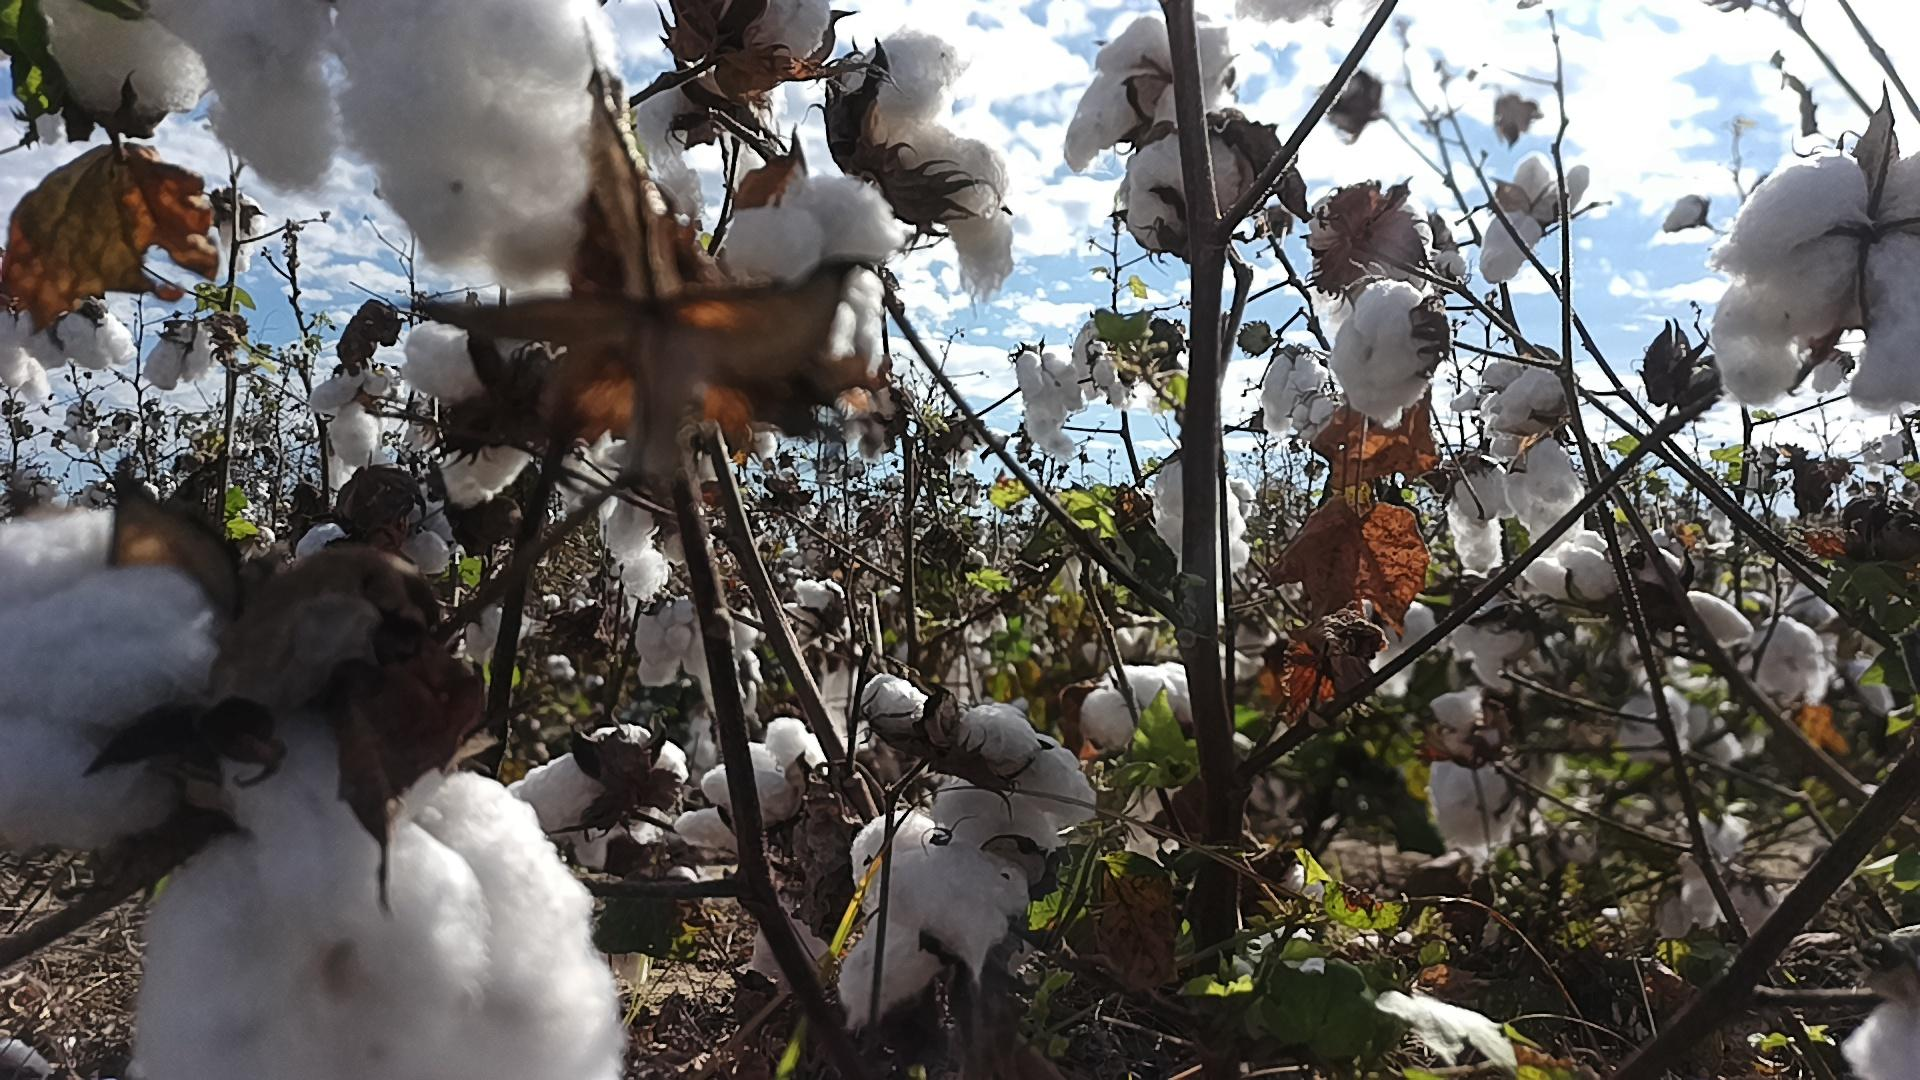cotton_ready: (129, 773, 628, 1080), (158, 0, 608, 286), (0, 505, 228, 858), (190, 695, 498, 935), (1710, 152, 1920, 406), (832, 28, 1018, 303), (833, 815, 1030, 1038), (729, 175, 893, 368), (932, 705, 1102, 881), (508, 720, 691, 870), (1523, 531, 1758, 646), (1060, 16, 1234, 167), (404, 320, 543, 501), (674, 716, 833, 855), (636, 75, 783, 218), (44, 0, 214, 116), (1329, 278, 1445, 421), (1124, 125, 1247, 256), (1480, 150, 1593, 284), (1308, 183, 1436, 293), (632, 593, 736, 721), (1441, 583, 1557, 695), (1155, 458, 1253, 575), (1085, 661, 1196, 750), (1506, 435, 1589, 551), (1428, 756, 1524, 853), (295, 518, 458, 574), (306, 365, 393, 467), (1445, 455, 1514, 578), (605, 489, 713, 566), (712, 0, 833, 66), (1370, 601, 1451, 700), (1484, 348, 1578, 431), (1018, 343, 1081, 463), (1754, 615, 1830, 705), (0, 303, 70, 401), (778, 575, 858, 659), (1844, 1004, 1920, 1080), (55, 306, 140, 373), (1262, 345, 1325, 433), (144, 318, 214, 389), (861, 675, 928, 737), (1288, 393, 1342, 450)
